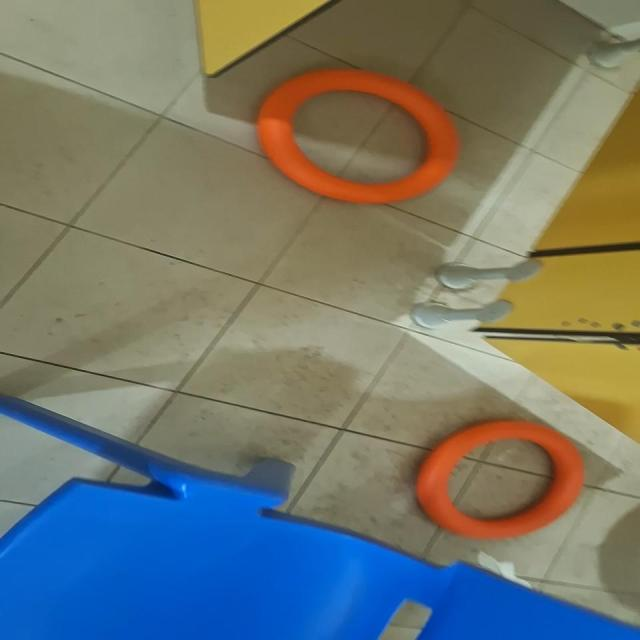note: (254, 67, 461, 205), (414, 419, 585, 541)
